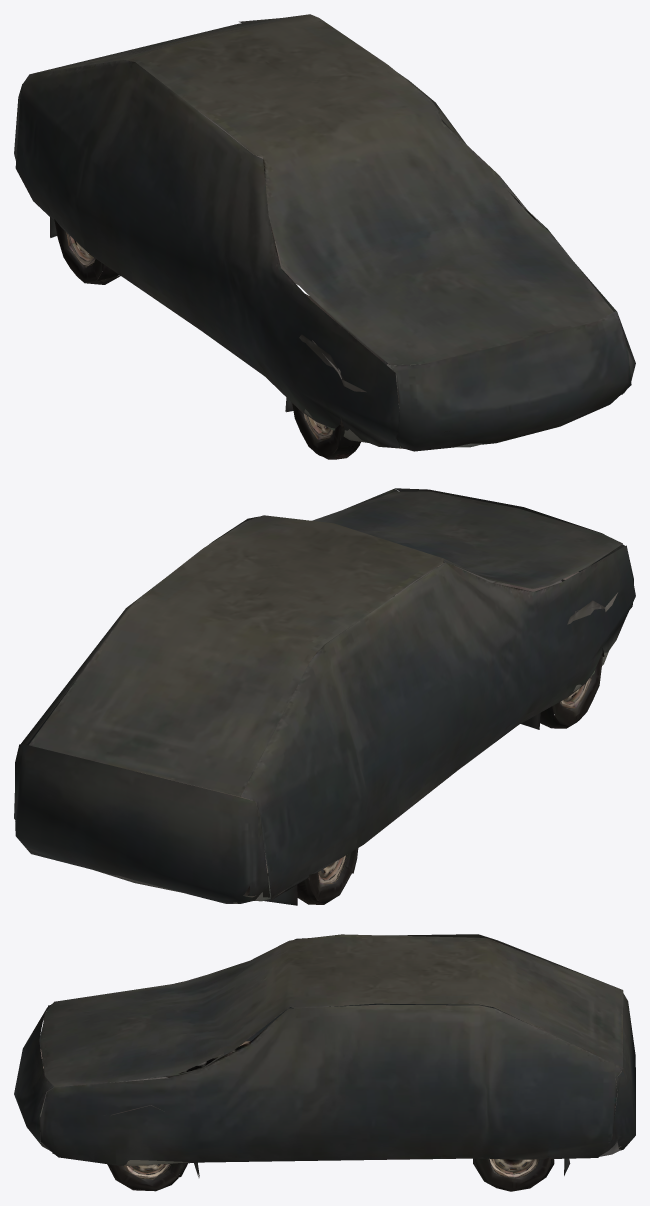
The model's file is covered-car.glb.
The picture shows the model from 3 angles, top to bottom: view 1: azimuth 30°, elevation 25°; view 2: azimuth 150°, elevation 25°; view 3: azimuth 270°, elevation 25°; orthographic projection. The views are drawn at different scales.
Parts seen in each view (by area): view 1: covered_car, covered_car_wheel_02, covered_car_wheel_03; view 2: covered_car, covered_car_wheel_03, covered_car_wheel_02; view 3: covered_car, covered_car_wheel_04, covered_car_wheel_01.
Part boxes in pixels (x1,y1,x2,y2): covered_car: (14, 14, 635, 451); covered_car_wheel_02: (291, 402, 360, 459); covered_car_wheel_03: (54, 219, 120, 284); covered_car: (14, 488, 635, 905); covered_car_wheel_03: (297, 848, 358, 904); covered_car_wheel_02: (540, 648, 604, 728); covered_car: (14, 934, 635, 1177); covered_car_wheel_04: (473, 1156, 554, 1191); covered_car_wheel_01: (107, 1163, 187, 1191).
Bounding box in the file's own units: 1.8 × 1.39 × 4.38.
Materials: 2 (2 with a texture image).
